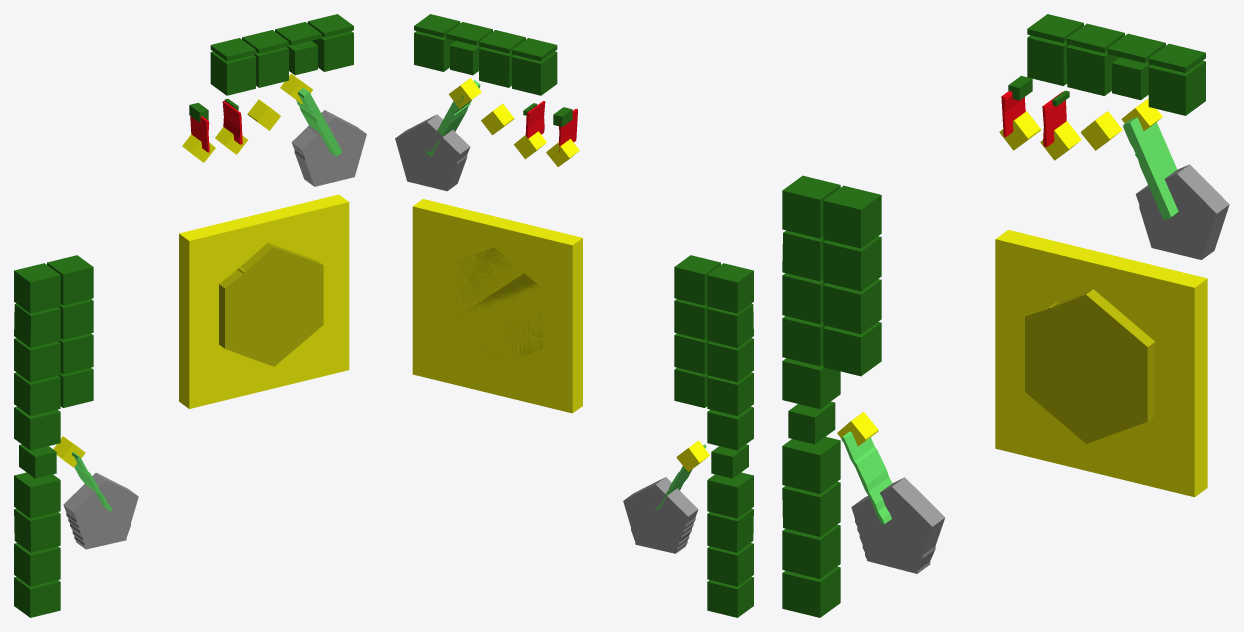
File: AdlerCraft_To3D_v2.obj
3 views of the same model, side by side, from view 1: azimuth 30°, elevation 25°; view 2: azimuth 150°, elevation 25°; view 3: azimuth 330°, elevation 25° (orthographic). The views are drawn at different scales.
Parts seen in each view (by area): view 1: Object.3, Object.24, Object.1, Object.4, Object.26, Object.14, Object.23, Object.17, Object.21, Object.13, Object.12, Object.25 (+19 smaller); view 2: Object.3, Object.1, Object.4, Object.26, Object.14, Object.24, Object.23, Object.17, Object.21, Object.13, Object.12, Object.25 (+21 smaller); view 3: Object.3, Object.24, Object.1, Object.4, Object.25, Object.14, Object.29, Object.20, Object.22, Object.13, Object.31, Object.18 (+23 smaller).
Boxes of the visible parts, <box> form: Object.3: <box>179,194,349,408</box>; Object.24: <box>219,243,323,366</box>; Object.1: <box>63,472,138,549</box>; Object.4: <box>291,110,366,186</box>; Object.26: <box>14,263,60,313</box>; Object.14: <box>14,472,60,518</box>; Object.23: <box>14,303,60,347</box>; Object.17: <box>14,406,60,450</box>; Object.21: <box>14,338,60,382</box>; Object.13: <box>14,508,60,552</box>; Object.12: <box>14,543,60,586</box>; Object.25: <box>47,255,93,305</box>; Object.3: <box>412,199,582,413</box>; Object.1: <box>623,477,698,553</box>; Object.4: <box>395,114,470,191</box>; Object.26: <box>707,263,753,313</box>; Object.14: <box>707,472,753,518</box>; Object.24: <box>445,247,542,363</box>; Object.23: <box>707,303,753,347</box>; Object.17: <box>707,406,753,450</box>; Object.21: <box>707,338,753,382</box>; Object.13: <box>707,508,753,552</box>; Object.12: <box>707,543,753,586</box>; Object.25: <box>674,255,720,305</box>; Object.3: <box>995,230,1207,497</box>; Object.24: <box>1025,289,1155,443</box>; Object.1: <box>851,477,945,573</box>; Object.4: <box>1135,164,1229,259</box>; Object.25: <box>823,185,881,248</box>; Object.14: <box>782,436,840,493</box>; Object.29: <box>1123,117,1178,219</box>; Object.20: <box>823,279,881,334</box>; Object.22: <box>823,236,881,291</box>; Object.13: <box>782,481,840,536</box>; Object.31: <box>1148,60,1205,115</box>; Object.18: <box>823,322,881,376</box>.
Size of the model in its own units: 143 by 205 by 11.84.
